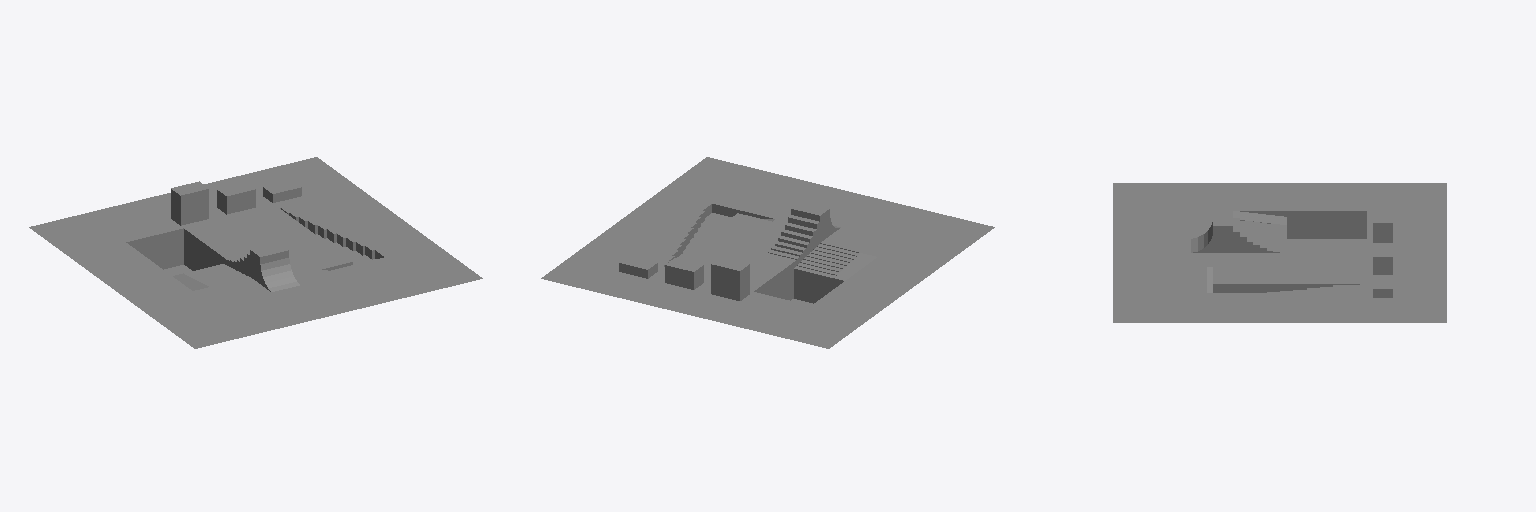
File: TestLevel.obj
3 renders of one model, left to right at view 1: azimuth 30°, elevation 25°; view 2: azimuth 150°, elevation 25°; view 3: azimuth 270°, elevation 25°, orthographic.
Parts seen in each view (by area): view 1: n4b4, n5b5, n6b6, n2b2, n3b3, n1b1; view 2: n4b4, n5b5, n6b6, n3b3, n2b2, n1b1, n0b0; view 3: n4b4, n5b5, n6b6, n2b2, n1b1.
Boxes of the visible parts, box(x1,y1,x2,y2) form: n4b4: box(47, 165, 464, 340); n5b5: box(92, 184, 419, 321); n6b6: box(29, 157, 482, 348); n2b2: box(126, 228, 361, 270); n3b3: box(181, 187, 301, 286); n1b1: box(164, 187, 375, 275); n4b4: box(559, 165, 976, 340); n5b5: box(604, 184, 931, 321); n6b6: box(541, 157, 994, 348); n3b3: box(619, 243, 859, 300); n2b2: box(683, 226, 843, 303); n1b1: box(648, 209, 835, 305); n0b0: box(752, 217, 848, 265); n4b4: box(1127, 188, 1432, 317); n5b5: box(1160, 202, 1399, 303); n6b6: box(1113, 183, 1446, 322); n2b2: box(1240, 211, 1366, 294); n1b1: box(1207, 223, 1392, 297).
Bounding box in the file's own units: 10000 × 2200 × 10000.